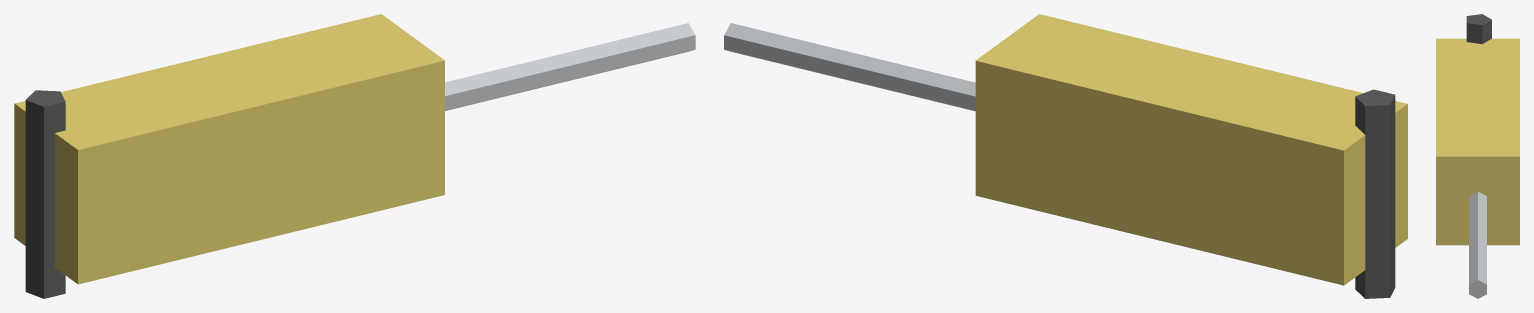
File: held_tool_jackhammer.glb
3 renders of one model, left to right at view 1: azimuth 30°, elevation 25°; view 2: azimuth 150°, elevation 25°; view 3: azimuth 270°, elevation 25°, orthographic. The views are drawn at different scales.
Parts seen in each view (by area): view 1: held_tool_jackhammer; view 2: held_tool_jackhammer; view 3: held_tool_jackhammer.
Part boxes in pixels (x1=…): held_tool_jackhammer: x1=14, y1=14, x2=695, y2=298; held_tool_jackhammer: x1=724, y1=14, x2=1407, y2=298; held_tool_jackhammer: x1=1436, y1=14, x2=1519, y2=298.
Bounding box in the file's own units: 0.719 × 0.2 × 0.12.
